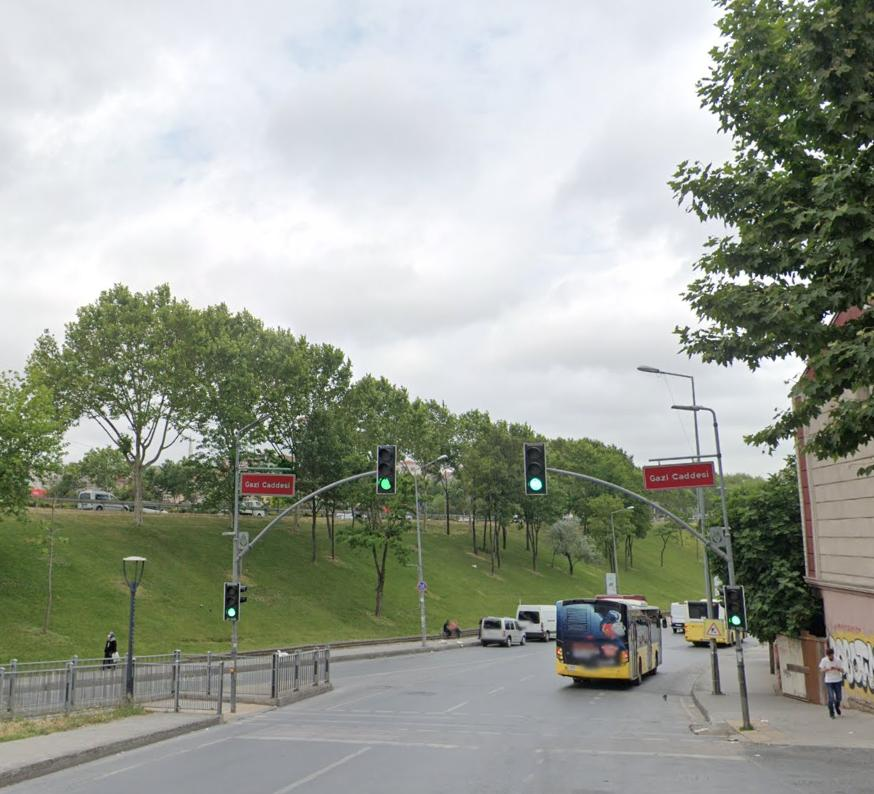greenlight: (724, 581, 747, 634), (525, 444, 546, 495), (377, 444, 395, 491), (223, 579, 238, 621)
